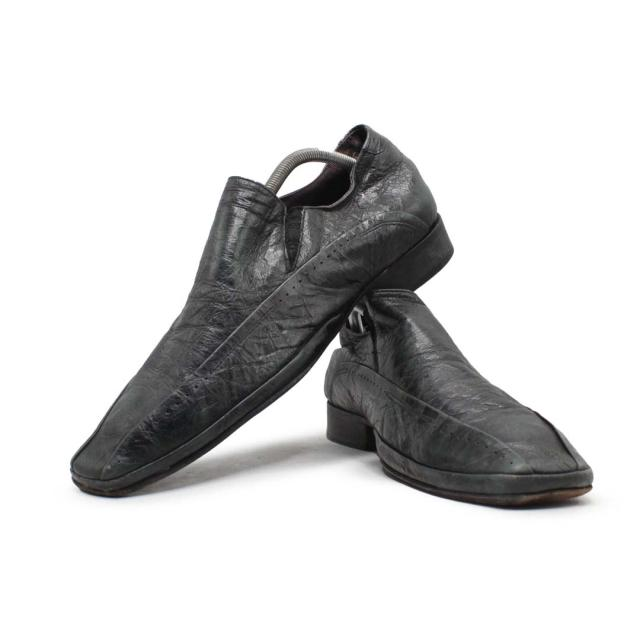heel: (354, 123, 442, 252)
midsole: (70, 214, 453, 501), (329, 402, 593, 505)
uppersole: (66, 174, 401, 475), (352, 293, 582, 475)
